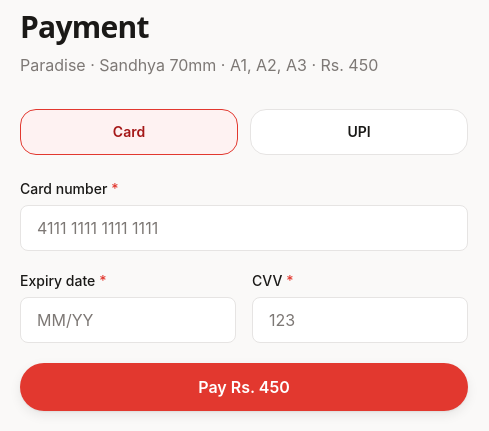
it: PaymentPage › shows a validation error for an invalid UPI ID
Click the button "UPI" at (359, 132), box [250,109,468,155]
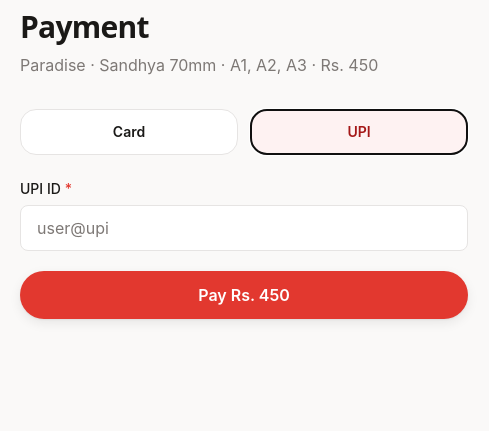
Type "not-a-upi" into the field labelled "UPI ID*" at (244, 228), box [20,205,468,251]
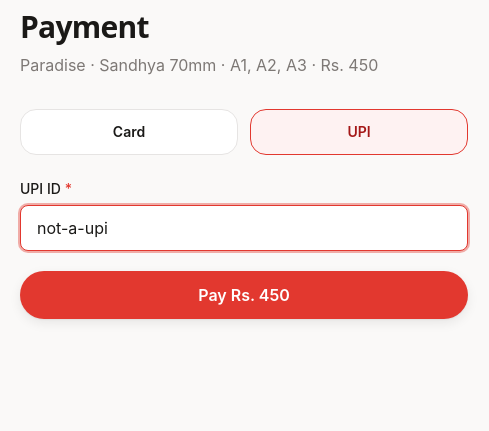
Click the button "Pay Rs. 450" at (244, 295), box [20,271,468,319]
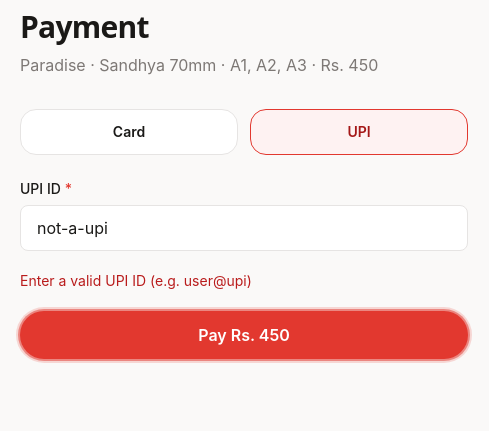
Expected: the text "Enter a valid UPI ID (e.g. user@upi)" is shown, [20,272,252,289]
